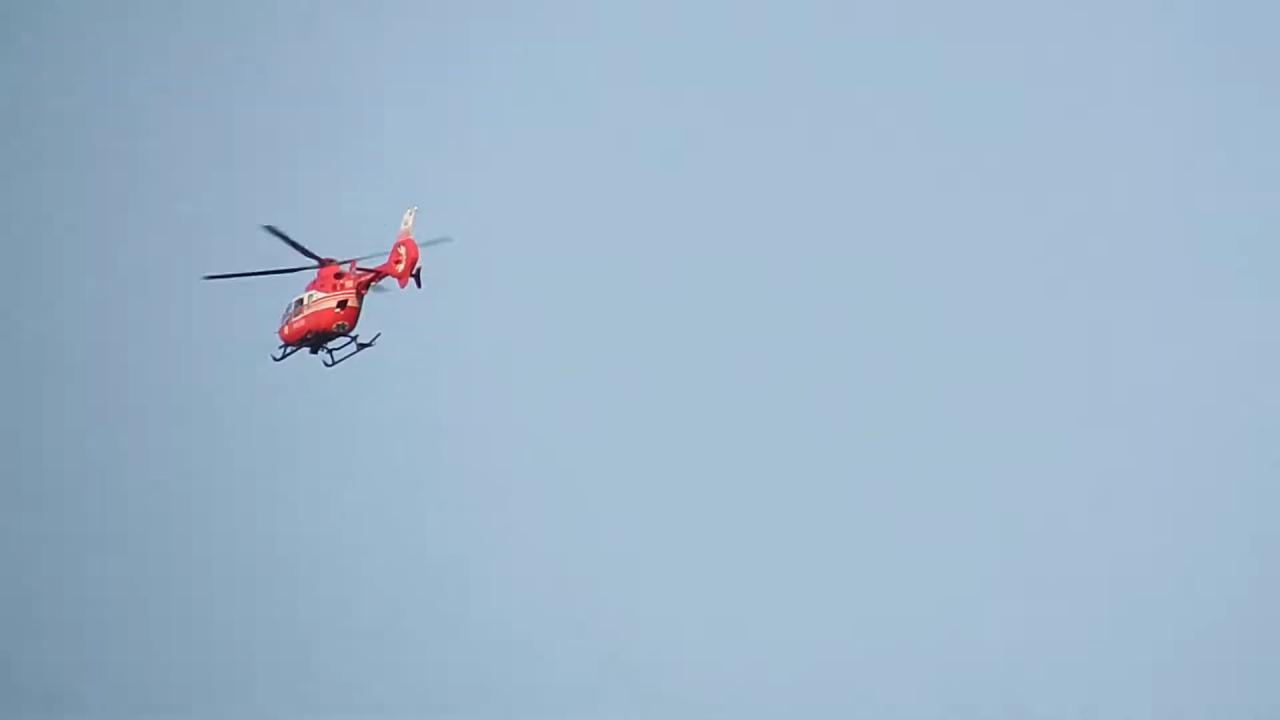Helicopter: (173, 186, 486, 392)
